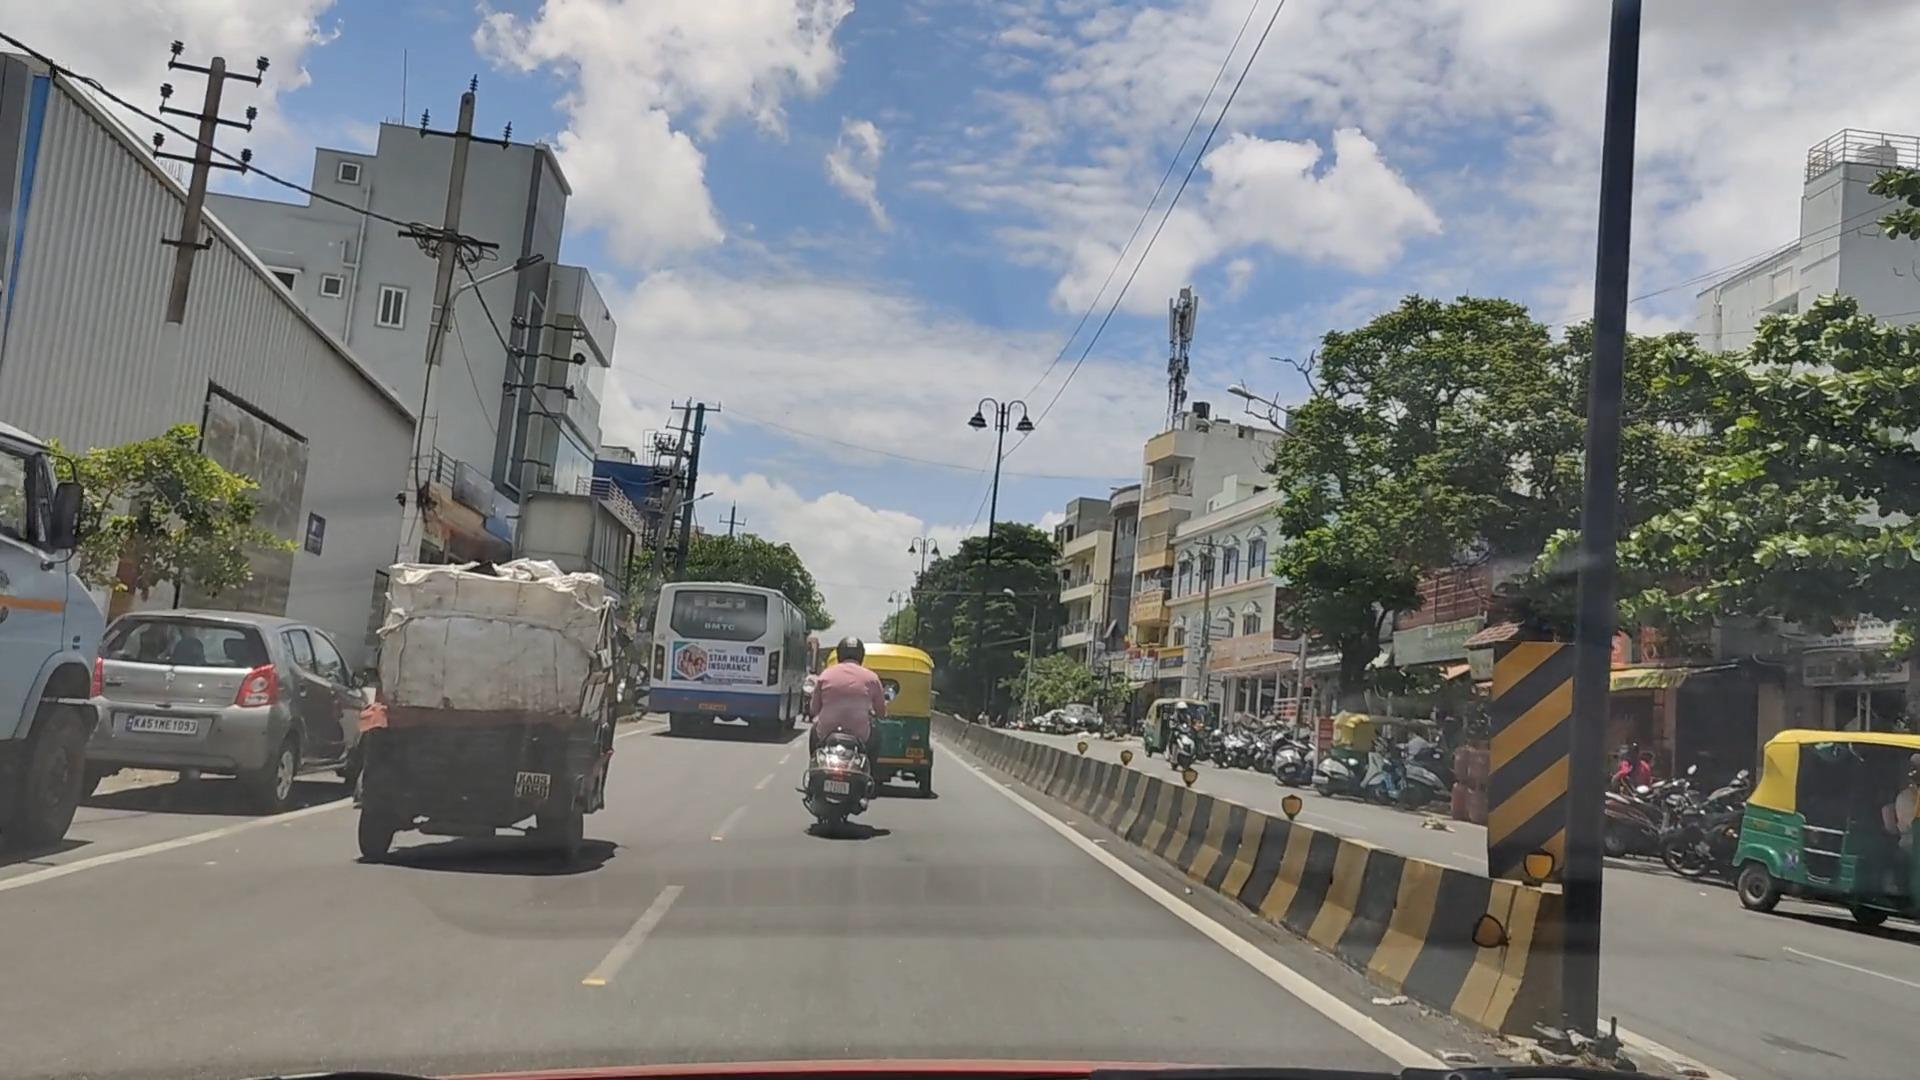HMV: (647, 568, 815, 731)
LMV: (348, 578, 644, 874), (783, 658, 914, 843), (843, 638, 943, 789)
